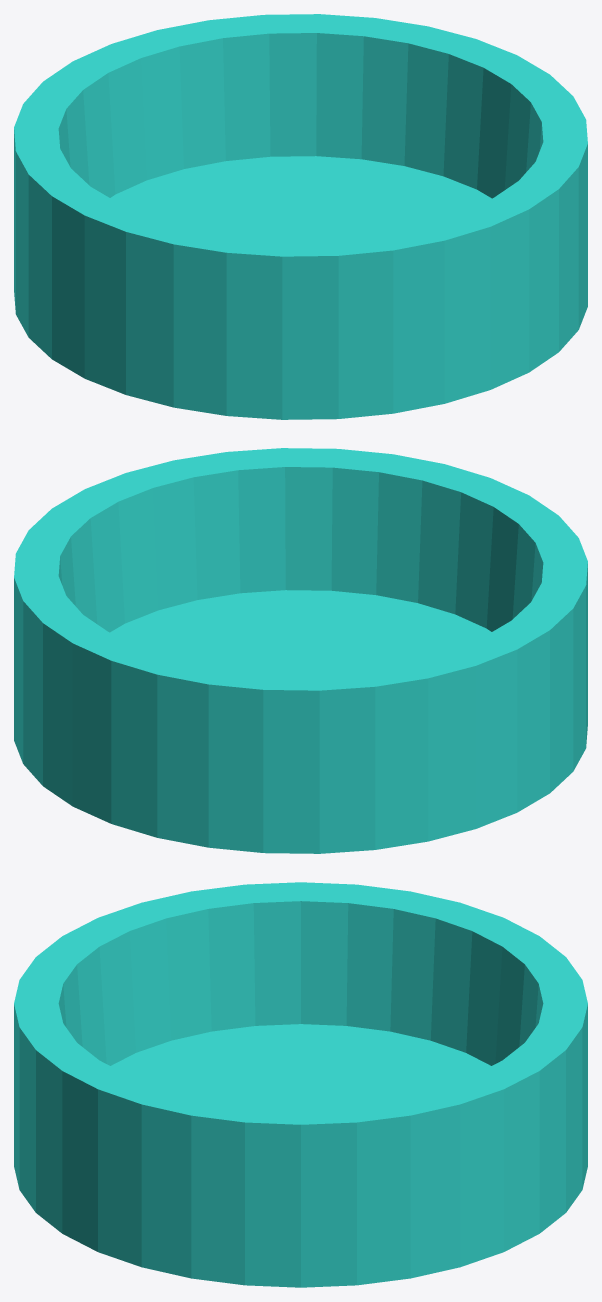
The model's file is bosin.glb.
3 renders of one model, top to bottom at view 1: azimuth 30°, elevation 25°; view 2: azimuth 150°, elevation 25°; view 3: azimuth 270°, elevation 25°, orthographic.
Visible parts, largest first — view 1: Циліндр; view 2: Циліндр; view 3: Циліндр.
Part boxes in pixels (x1,y1,x2,y2): Циліндр: (14,14,587,419); Циліндр: (14,448,587,853); Циліндр: (14,882,587,1287).
Bounding box in the file's own units: 3.55 × 1.11 × 3.55.
